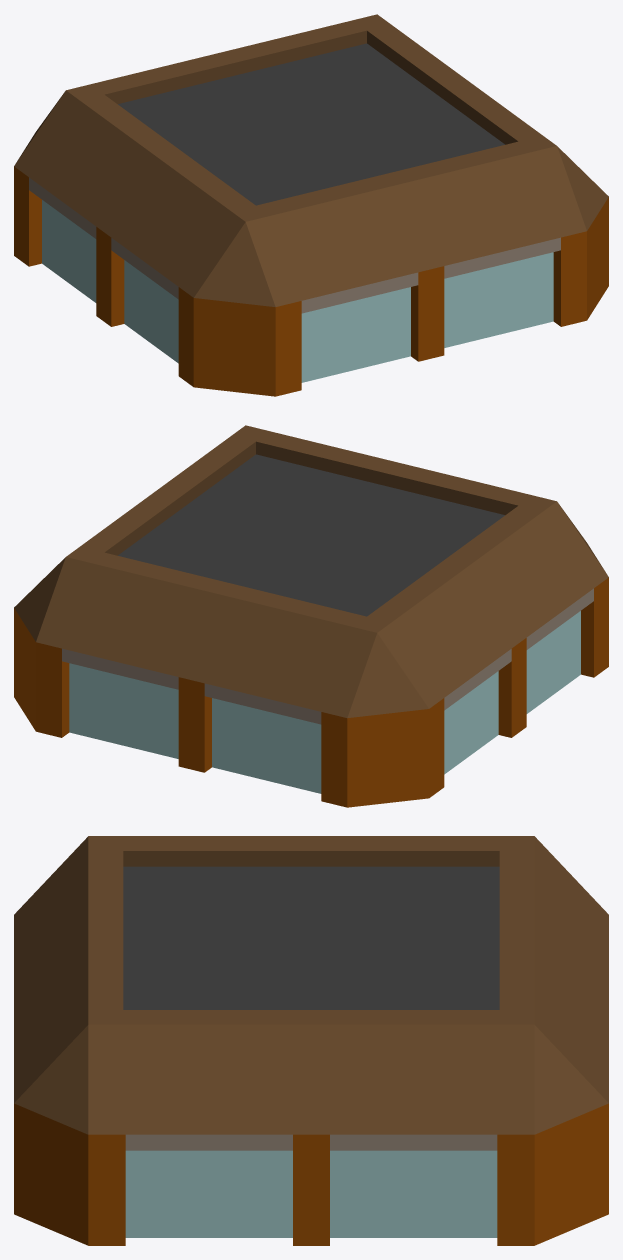
Rendered from building1-cap.dae.
3 renders of one model, top to bottom at view 1: azimuth 30°, elevation 25°; view 2: azimuth 150°, elevation 25°; view 3: azimuth 270°, elevation 25°, orthographic. The views are drawn at different scales.
Visible parts, largest first — view 1: SketchUp (×16); view 2: SketchUp (×16); view 3: SketchUp (×10).
Boxes of the visible parts, left/top/right/bottom form: SketchUp (×16): left=14, top=14, right=608, bottom=396; SketchUp (×16): left=14, top=425, right=608, bottom=807; SketchUp (×10): left=14, top=836, right=608, bottom=1245.
Size of the model in its own units: 33.46 by 33.46 by 11.77.
